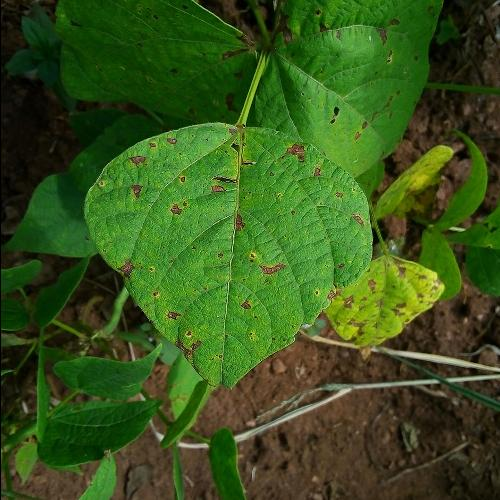hawar: (98, 244, 210, 366), (216, 214, 322, 328), (124, 113, 196, 228)
